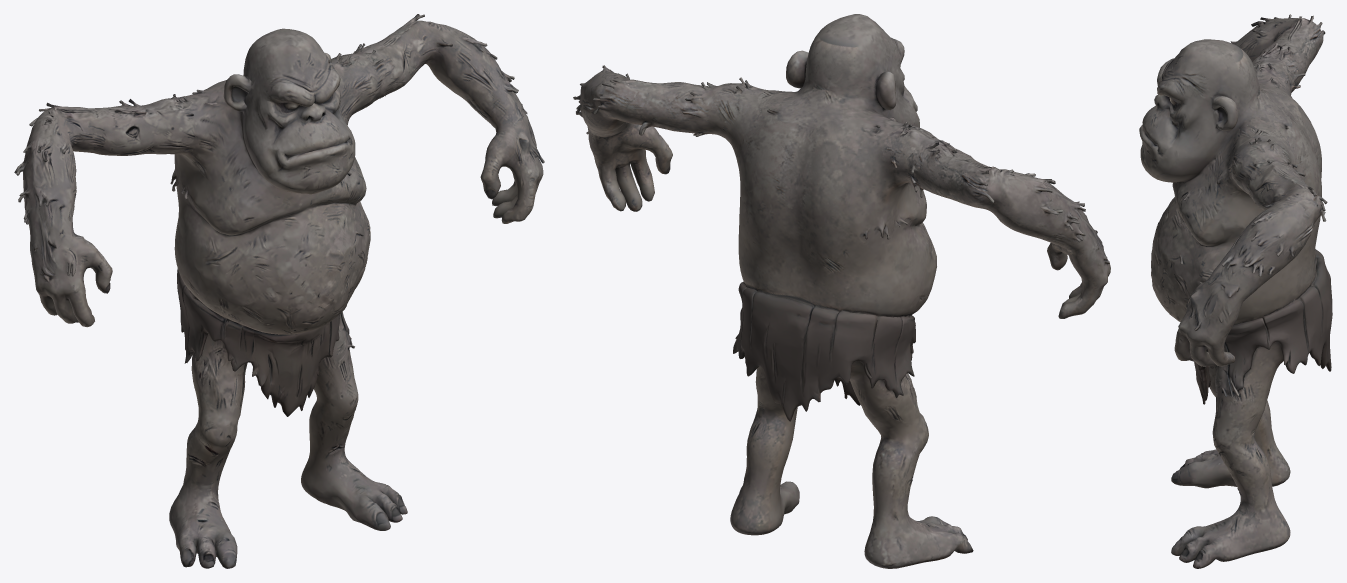
The model's file is cave_troll.glb.
The picture shows the model from 3 angles, left to right: view 1: azimuth 30°, elevation 25°; view 2: azimuth 150°, elevation 25°; view 3: azimuth 270°, elevation 25°; orthographic projection. The views are drawn at different scales.
Parts seen in each view (by area): view 1: tripo_node_a250fd95-1bce-47da-9a80-10847ba21ff4; view 2: tripo_node_a250fd95-1bce-47da-9a80-10847ba21ff4; view 3: tripo_node_a250fd95-1bce-47da-9a80-10847ba21ff4.
Part boxes in pixels (<box>): tripo_node_a250fd95-1bce-47da-9a80-10847ba21ff4: <box>14,14,544,568</box>; tripo_node_a250fd95-1bce-47da-9a80-10847ba21ff4: <box>573,14,1110,568</box>; tripo_node_a250fd95-1bce-47da-9a80-10847ba21ff4: <box>1139,14,1332,568</box>.
Size of the model in its own units: 0.9829 by 0.9386 by 0.3446.
Materials: 1 (1 with a texture image).
